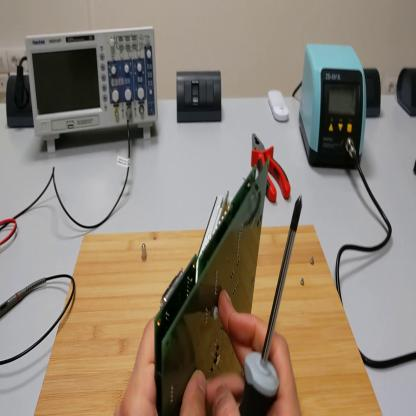hand: (207, 291, 301, 416), (118, 315, 206, 415)
low voltage board: (155, 161, 271, 416)
oscilloscope: (23, 25, 158, 154)
oscilloscope probe tip: (2, 276, 44, 320)
pliers: (252, 134, 291, 205)
screwdriver-: (240, 191, 305, 414)
socket: (7, 74, 34, 131), (397, 64, 416, 118), (366, 67, 382, 118)
welder station: (299, 44, 367, 170)
working area: (34, 224, 382, 415)
